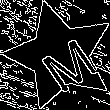M_NW: (26, 22, 95, 90)
